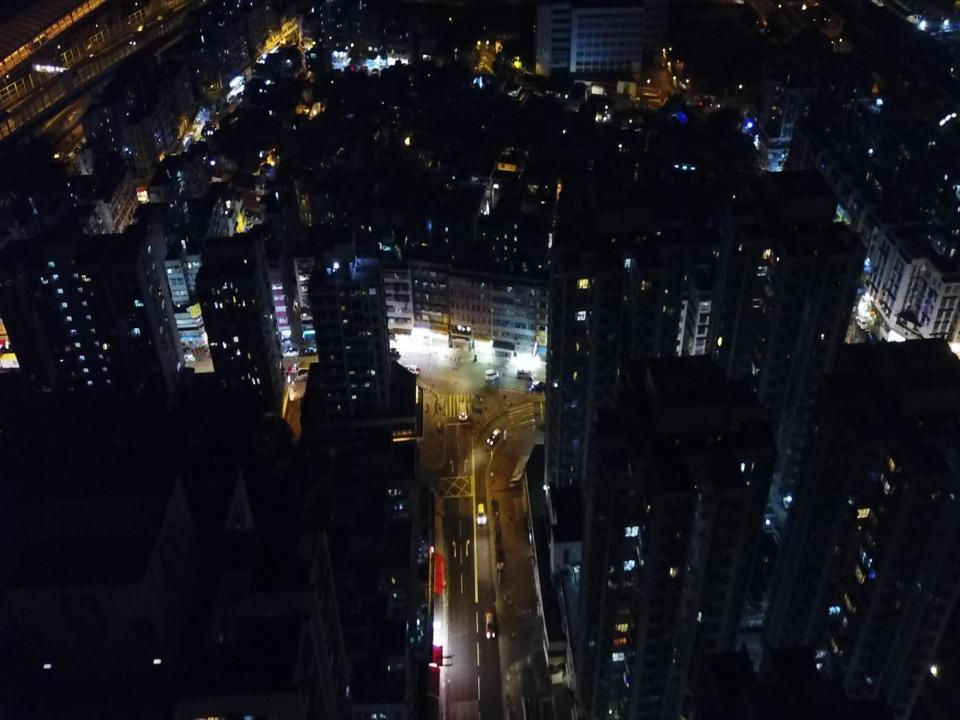bus: (294, 360, 327, 382)
car: (483, 608, 496, 640), (485, 428, 502, 446), (281, 345, 300, 359), (529, 379, 549, 392), (483, 367, 500, 382), (457, 401, 468, 421), (300, 344, 318, 356), (477, 502, 486, 524), (402, 364, 420, 375), (387, 347, 402, 357)
van: (517, 369, 534, 381), (180, 351, 196, 363)
